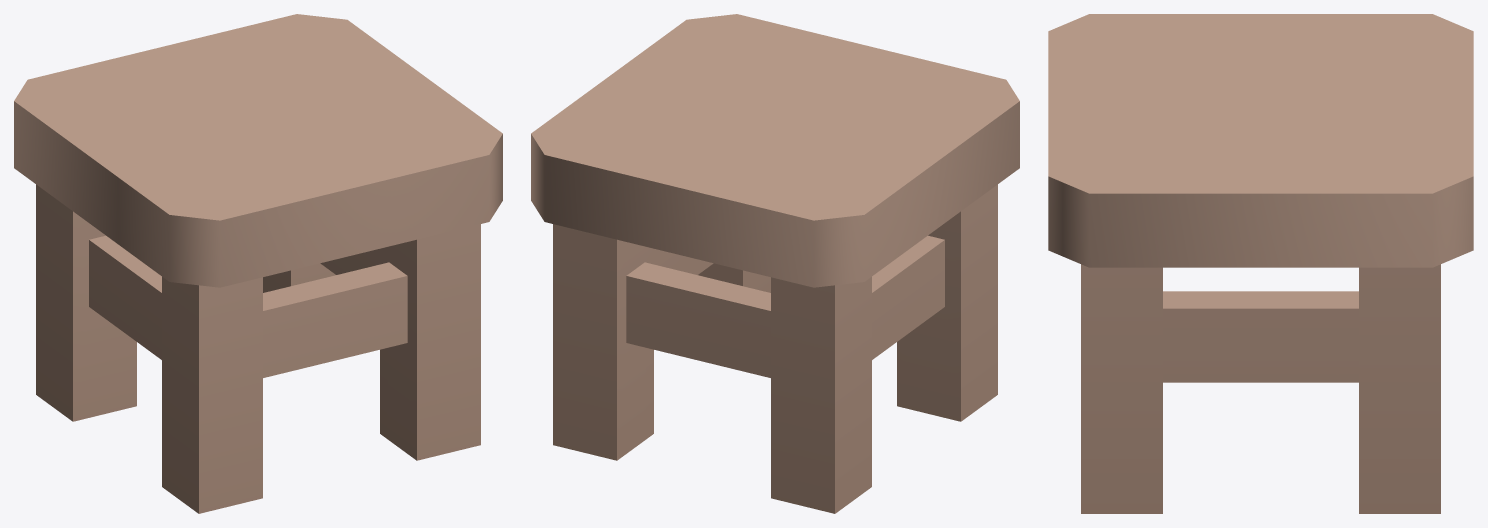
The model's file is stall-stool.glb.
3 renders of one model, left to right at view 1: azimuth 30°, elevation 25°; view 2: azimuth 150°, elevation 25°; view 3: azimuth 270°, elevation 25°, orthographic. The views are drawn at different scales.
Visible parts, largest first — view 1: stall-stool; view 2: stall-stool; view 3: stall-stool.
Boxes of the visible parts, x1,y1,x2,y2 form: stall-stool: (14,14,502,513); stall-stool: (531,14,1019,513); stall-stool: (1048,14,1473,513).
Bounding box in the file's own units: 0.26 × 0.2255 × 0.26.
